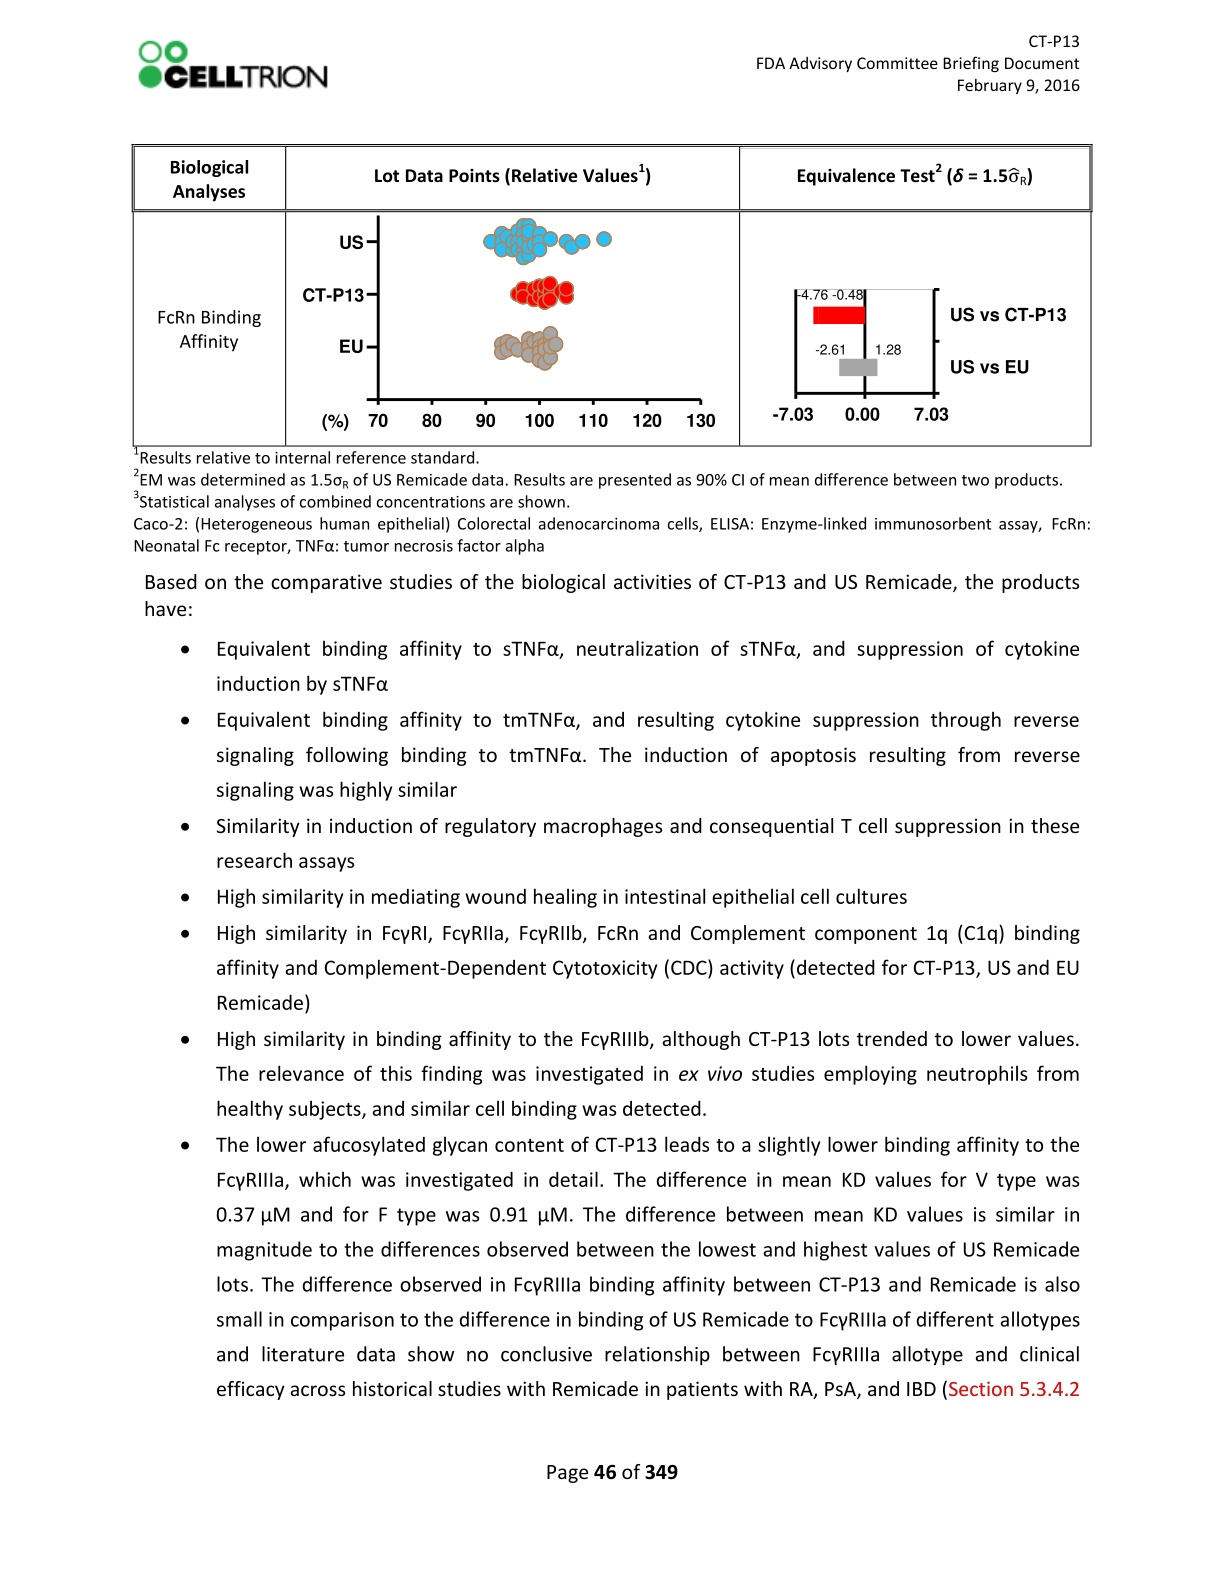full_lined: (131, 144, 1092, 447)
